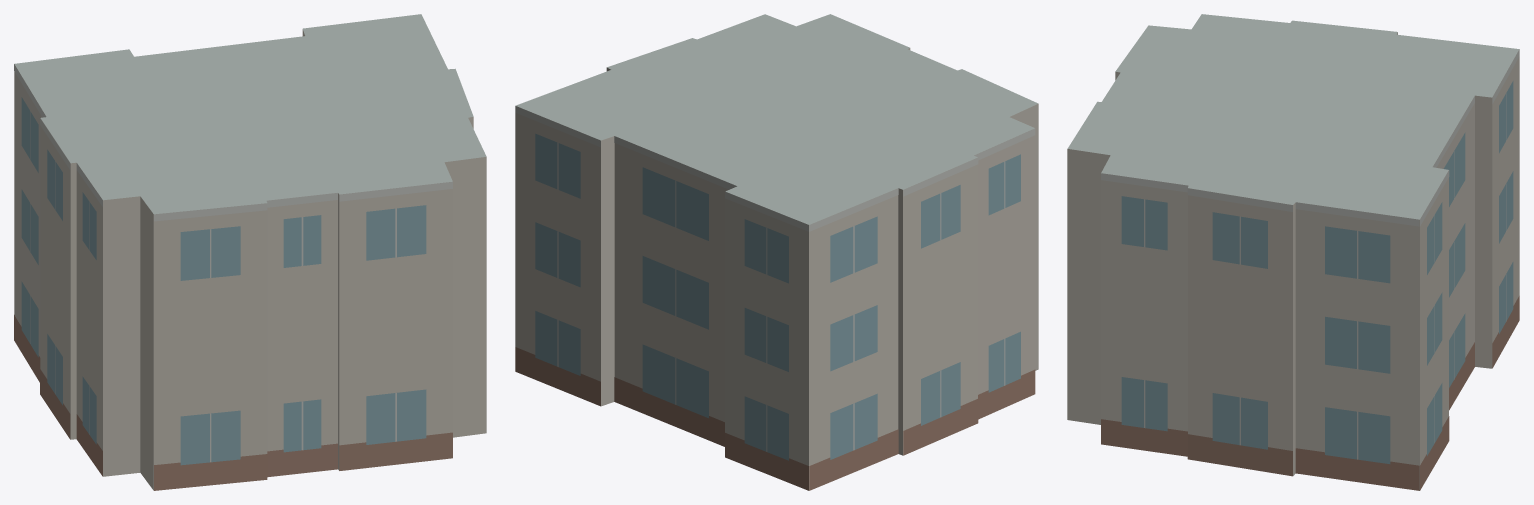
The model's file is survey-upis-32892876.glb.
3 renders of one model, left to right at view 1: azimuth 30°, elevation 25°; view 2: azimuth 150°, elevation 25°; view 3: azimuth 270°, elevation 25°, orthographic. The views are drawn at different scales.
Parts seen in each view (by area): view 1: survey-upis-32892876.tmp; view 2: survey-upis-32892876.tmp; view 3: survey-upis-32892876.tmp.
Part boxes in pixels (x1,y1,x2,y2): survey-upis-32892876.tmp: [14, 14, 486, 490]; survey-upis-32892876.tmp: [515, 14, 1038, 490]; survey-upis-32892876.tmp: [1067, 14, 1519, 490].
Bounding box in the file's own units: 15.33 × 9.42 × 14.24.
